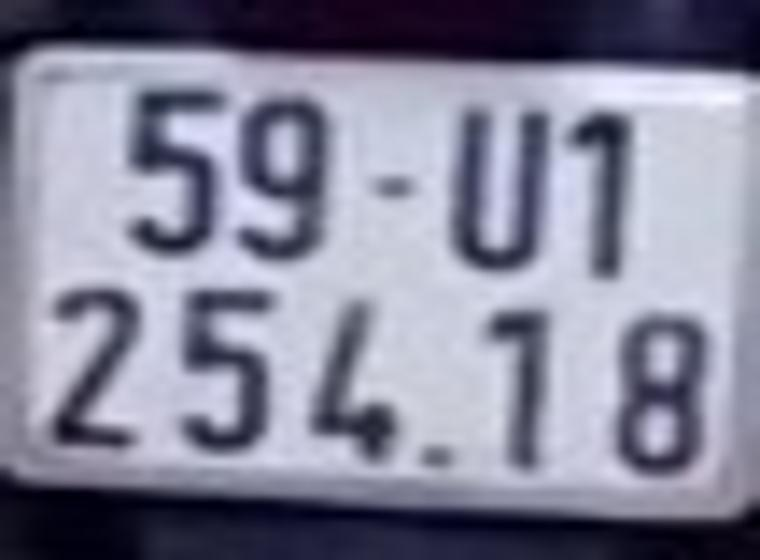-: (366, 162, 433, 197)
.: (419, 436, 470, 479)
1: (563, 106, 637, 284), (491, 297, 550, 471)
2: (49, 280, 149, 462)
4: (307, 300, 405, 455)
5: (130, 86, 222, 257), (183, 289, 275, 451)
8: (612, 307, 709, 481)
9: (241, 91, 334, 273)
U: (452, 105, 549, 272)
